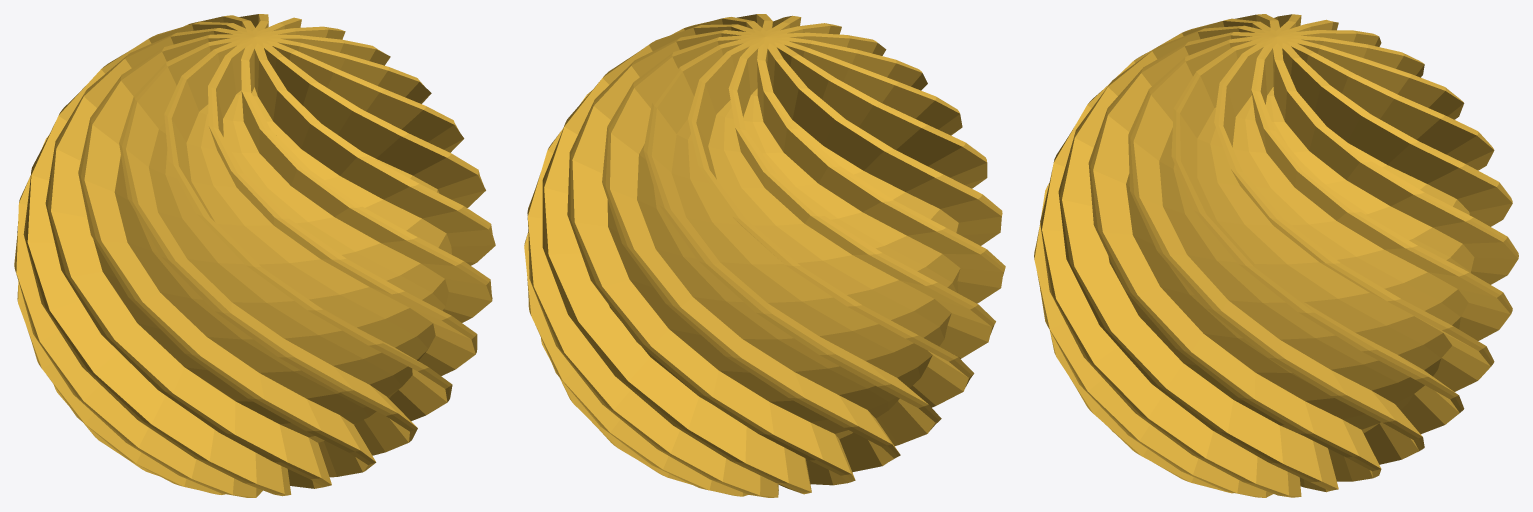
The model's file is sphere_gold_2.glb.
The picture shows the model from 3 angles, left to right: view 1: azimuth 30°, elevation 25°; view 2: azimuth 150°, elevation 25°; view 3: azimuth 270°, elevation 25°; orthographic projection.
Visible parts, largest first — view 1: Sphere.007; view 2: Sphere.007; view 3: Sphere.007.
Part boxes in pixels (x1,y1,x2,y2): Sphere.007: (14,14,495,497); Sphere.007: (524,14,1005,497); Sphere.007: (1034,14,1518,497).
Bounding box in the file's own units: 2.45 × 2.44 × 2.45.
